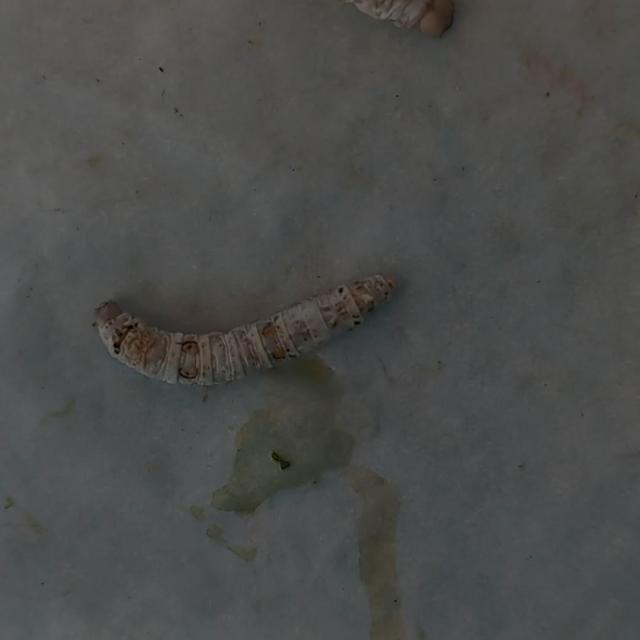Grasserie: (82, 266, 412, 394)
